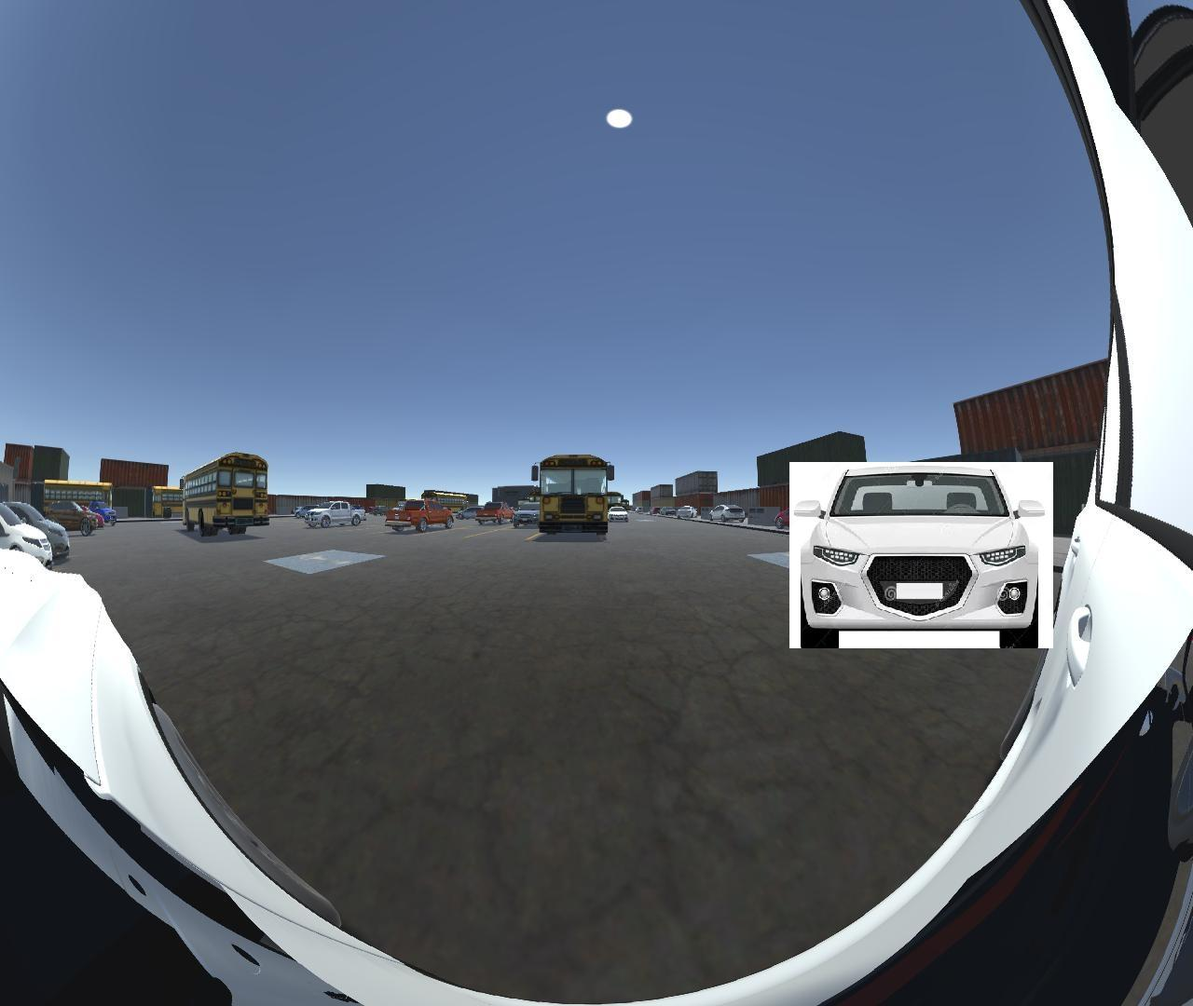Car: (788, 462, 1051, 652)
